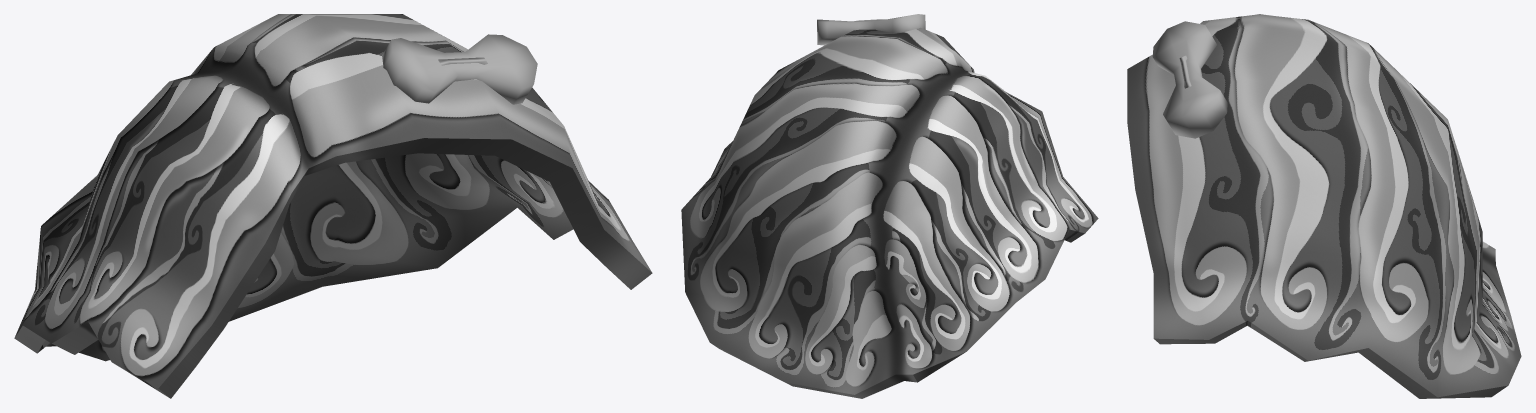
Rendered from Hair_Girly.FBX.
3 views of the same model, side by side, from view 1: azimuth 30°, elevation 25°; view 2: azimuth 150°, elevation 25°; view 3: azimuth 270°, elevation 25° (orthographic). The views are drawn at different scales.
Visible parts, largest first — view 1: Hair_Girly, BowTie; view 2: Hair_Girly, BowTie; view 3: Hair_Girly, BowTie.
Part boxes in pixels (<box>): Hair_Girly: <box>14,14,652,398</box>; BowTie: <box>382,34,537,104</box>; Hair_Girly: <box>681,19,1098,398</box>; BowTie: <box>817,14,925,45</box>; Hair_Girly: <box>1127,14,1521,398</box>; BowTie: <box>1152,21,1227,138</box>.
Bounding box in the file's own units: 286 × 221 × 226.
